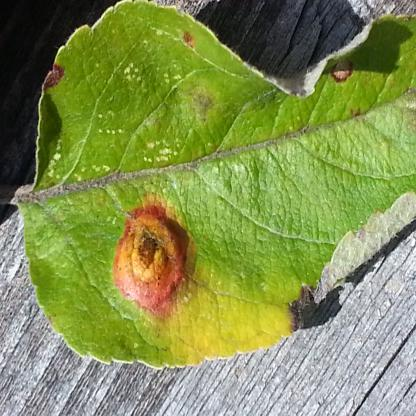apple rust leaf: (10, 16, 416, 388)
